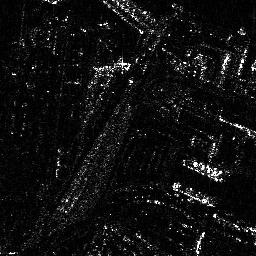ship: (172, 183, 222, 210), (181, 158, 226, 183)
